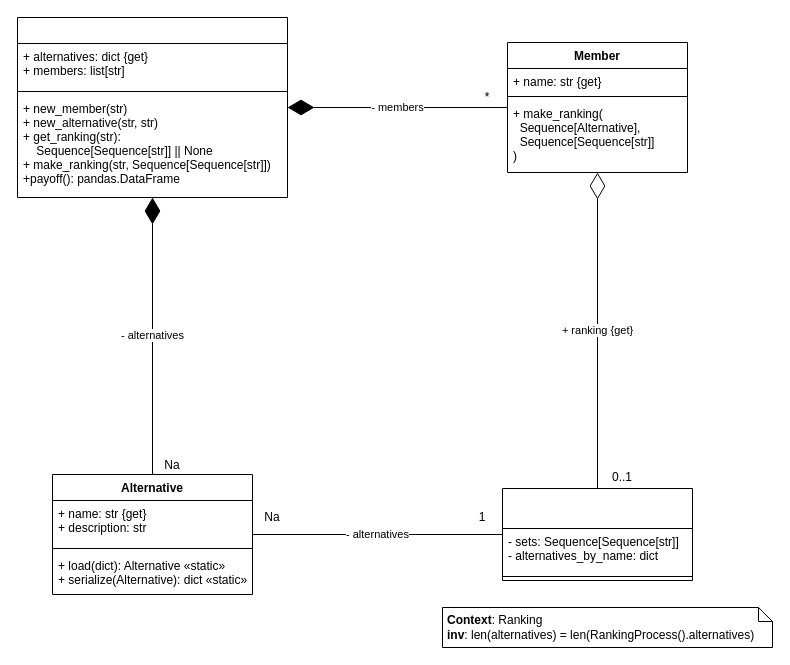
This 790x665 diagram has some shape labels left out. Each missing label, with the box of its shape:
RankingProcess: (16, 16, 288, 198)
«iterable» Ranking: (502, 488, 692, 580)
